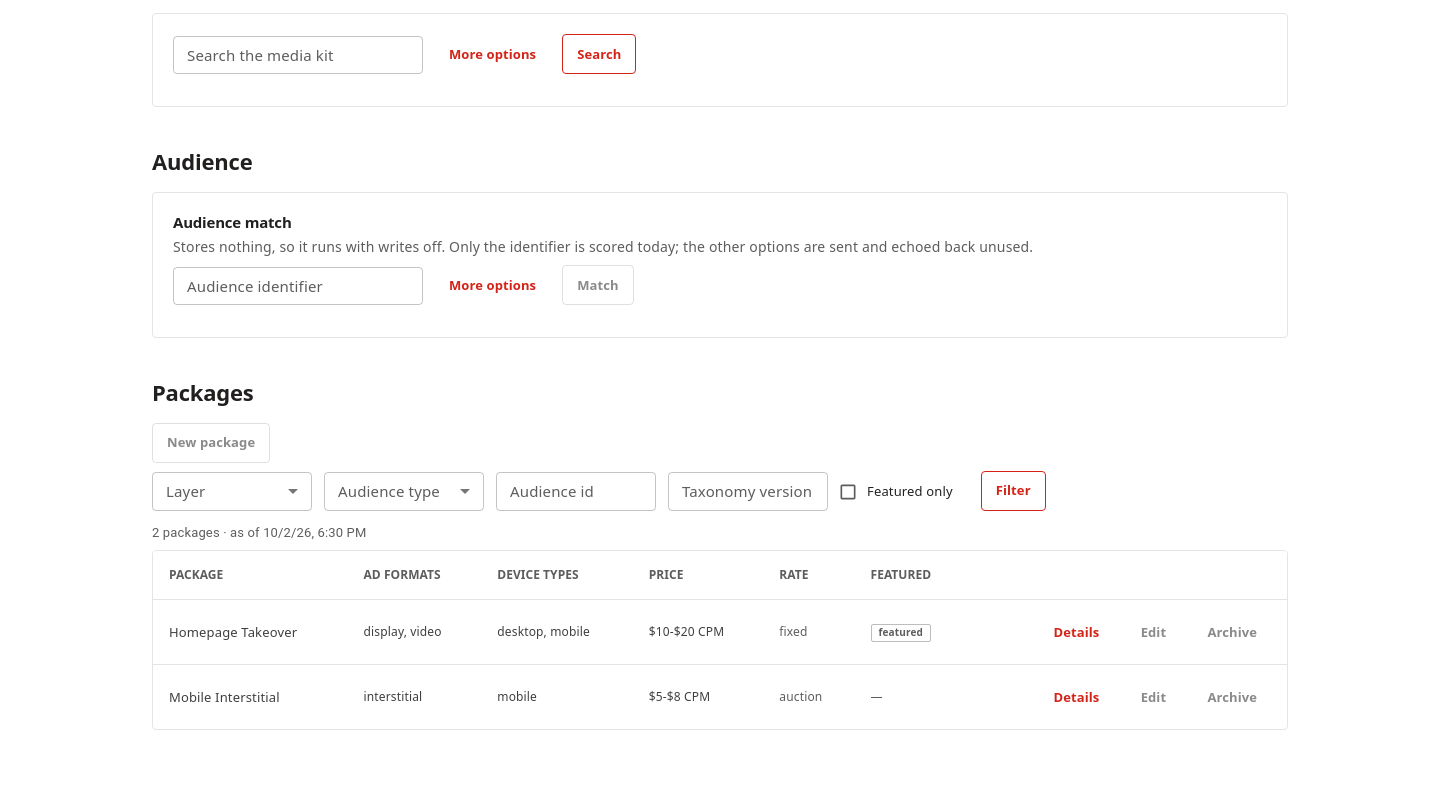
Scenario: the media kit screen › expands a row into a detail that fetches the single package
The width and height of the screenshot is (1440, 802).
(page scrolled)
Expected: the row that starts with "Homepage Takeover" is shown, [153,600,1287,665]
What coordinates should you click on to do the following:
click the button "Details" in the row of "display, video"
I would click on:
 (1076, 632)
Its box is [1040,612,1113,652].
(page scrolled)
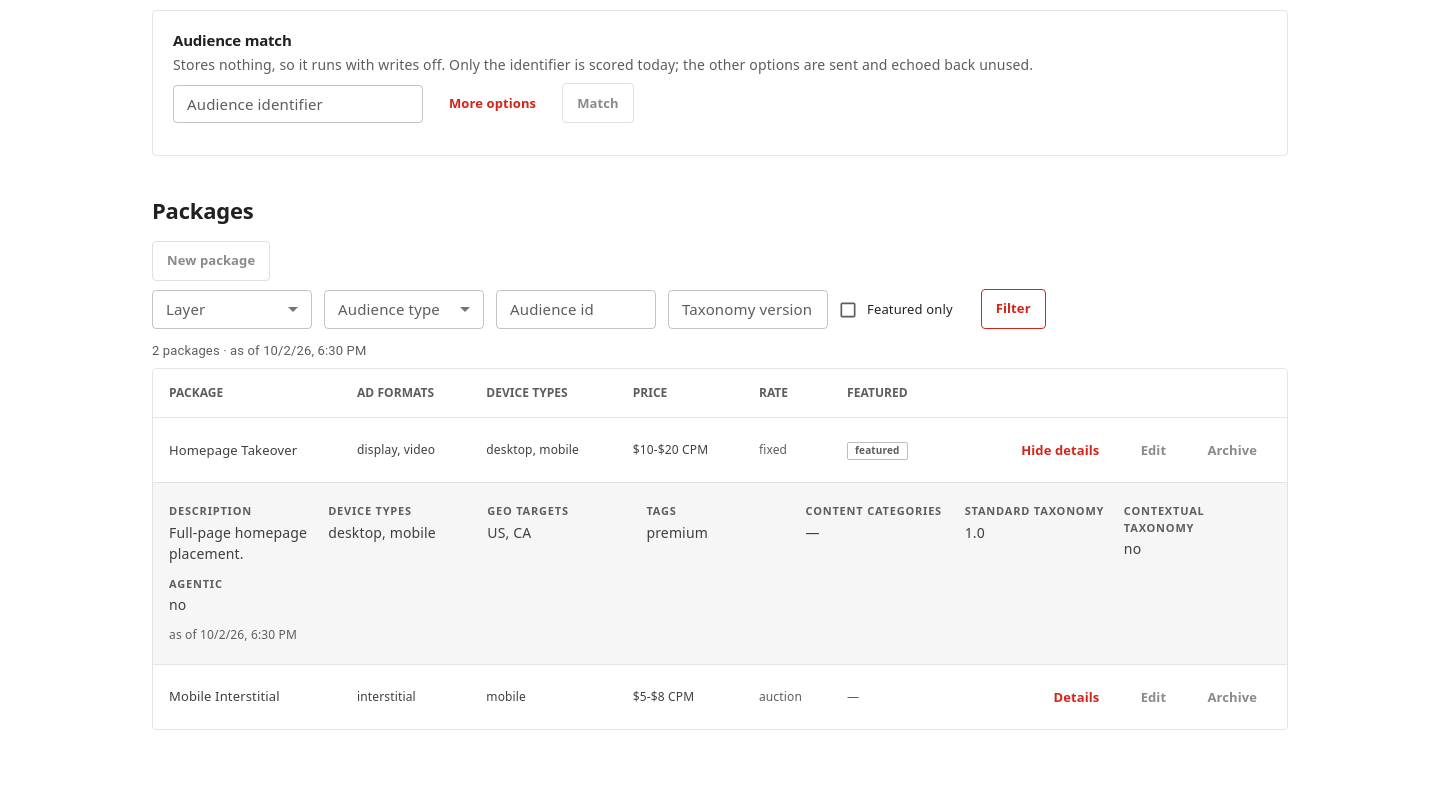
Expected: the button "Hide details" is expanded, [1007,430,1113,470]
Expected: the element that starts with "Description" is shown, [169,495,1271,652]
Expected: the element that starts with "Description" shows "Full-page homepage placement.", [169,523,307,563]
